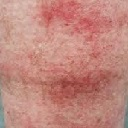Cellulitis: (37, 70, 107, 99), (45, 1, 99, 35)
